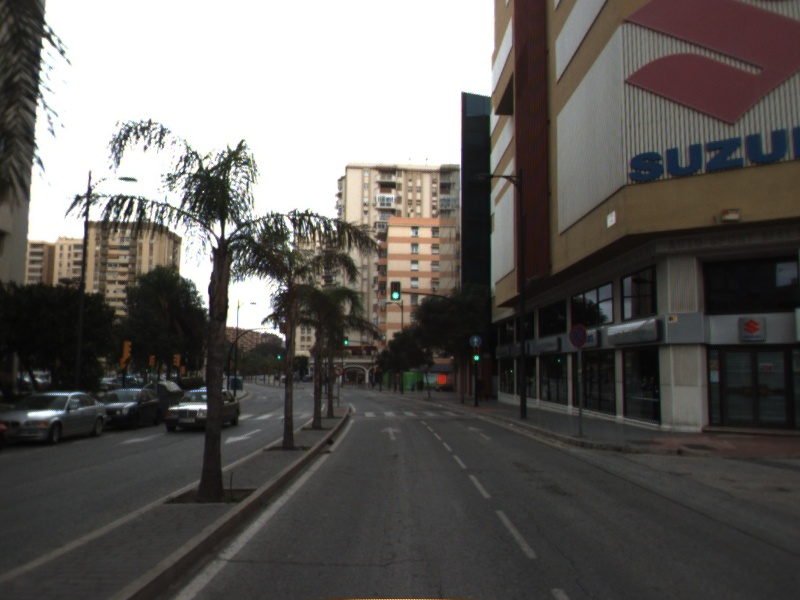STRAIGHT: (467, 425, 495, 442), (378, 424, 404, 442)
